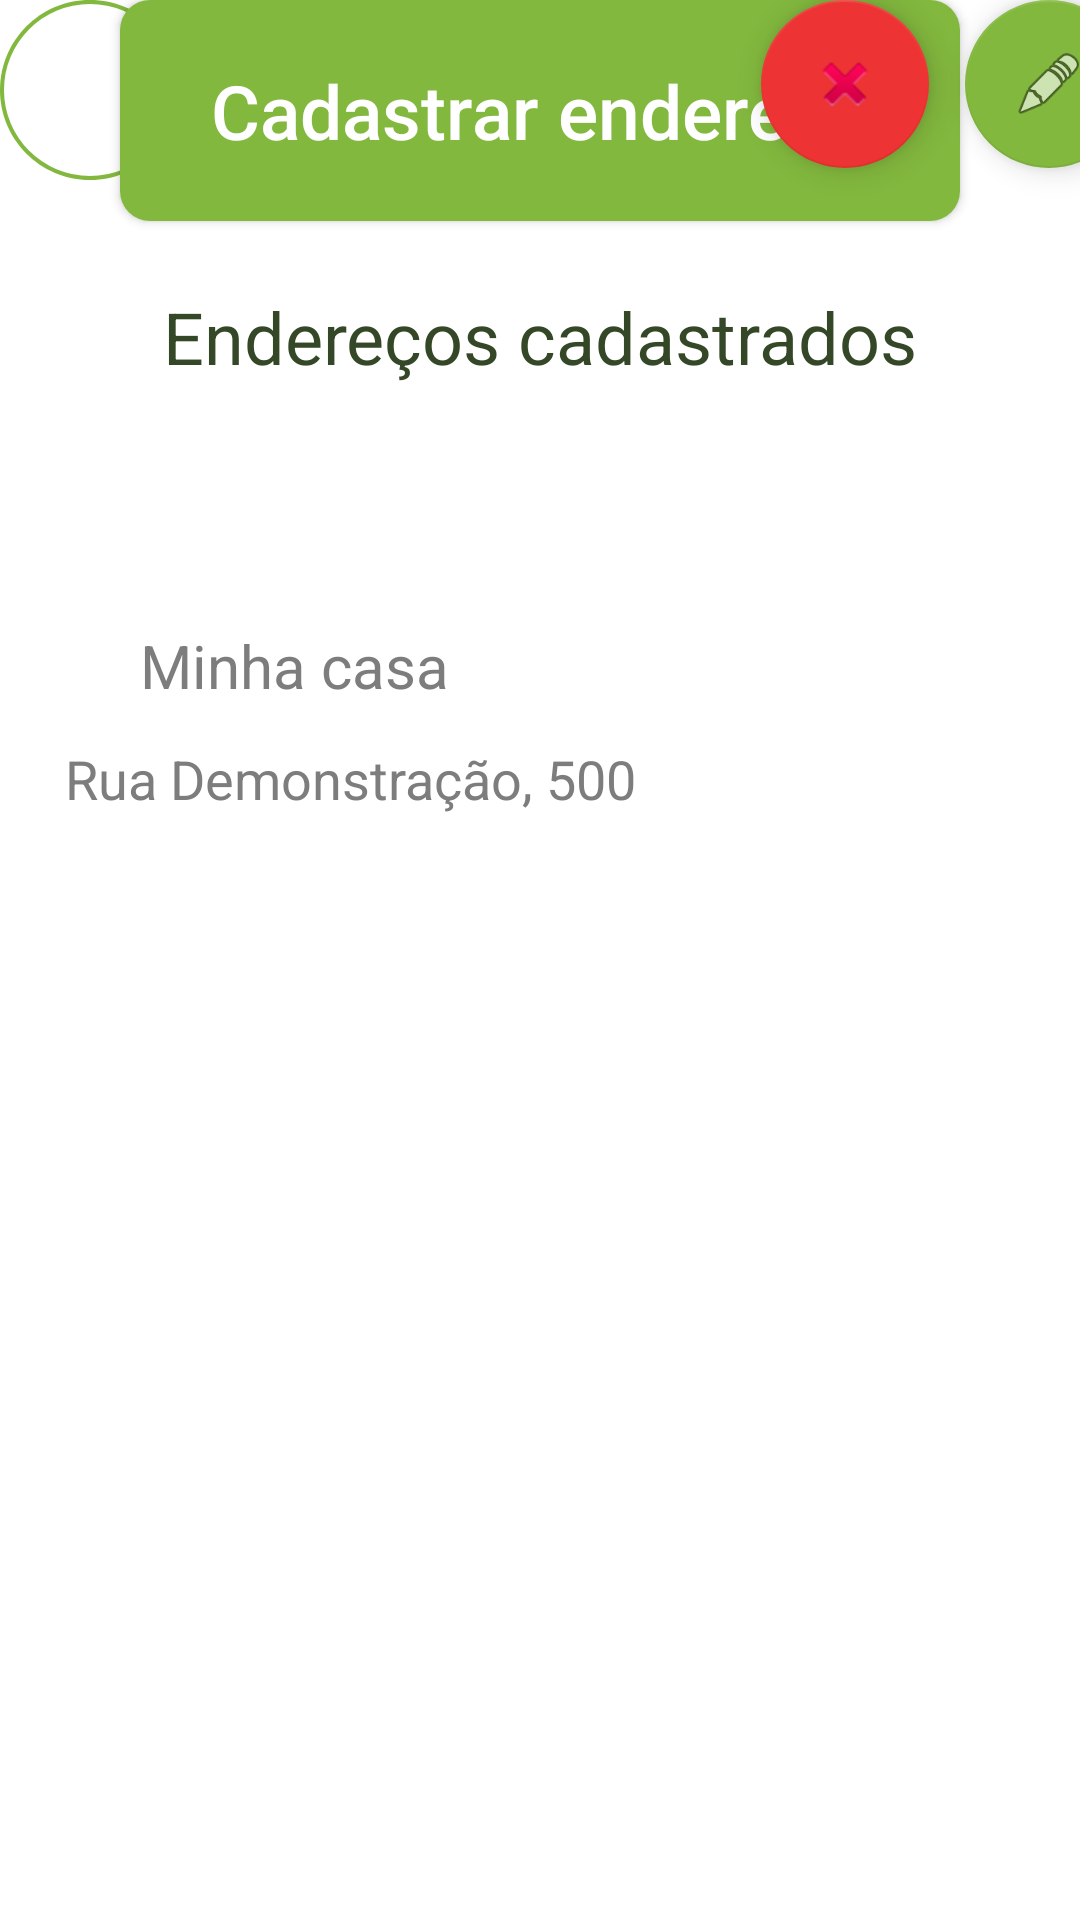

Icons on this 1080*1920 Android screen, each with its box as {"x1": x1, "y1": y1, "x2": x2, "y2": y2}:
delete: {"x1": 761, "y1": 0, "x2": 929, "y2": 168}
